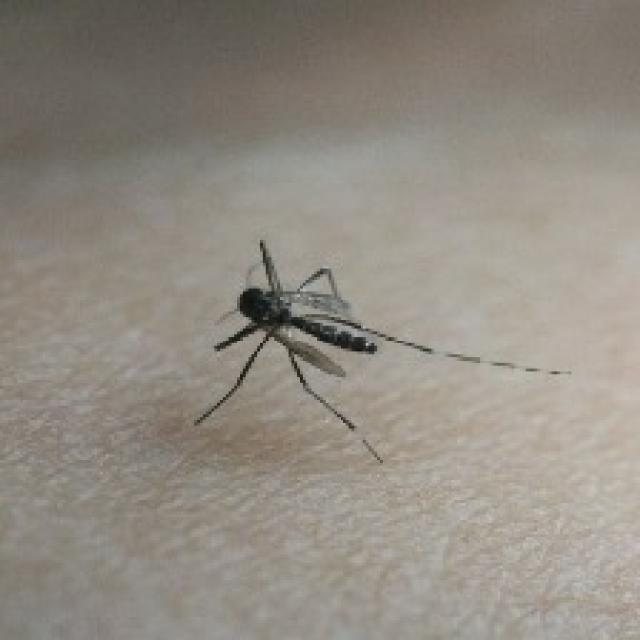aedes: (188, 237, 572, 466)
